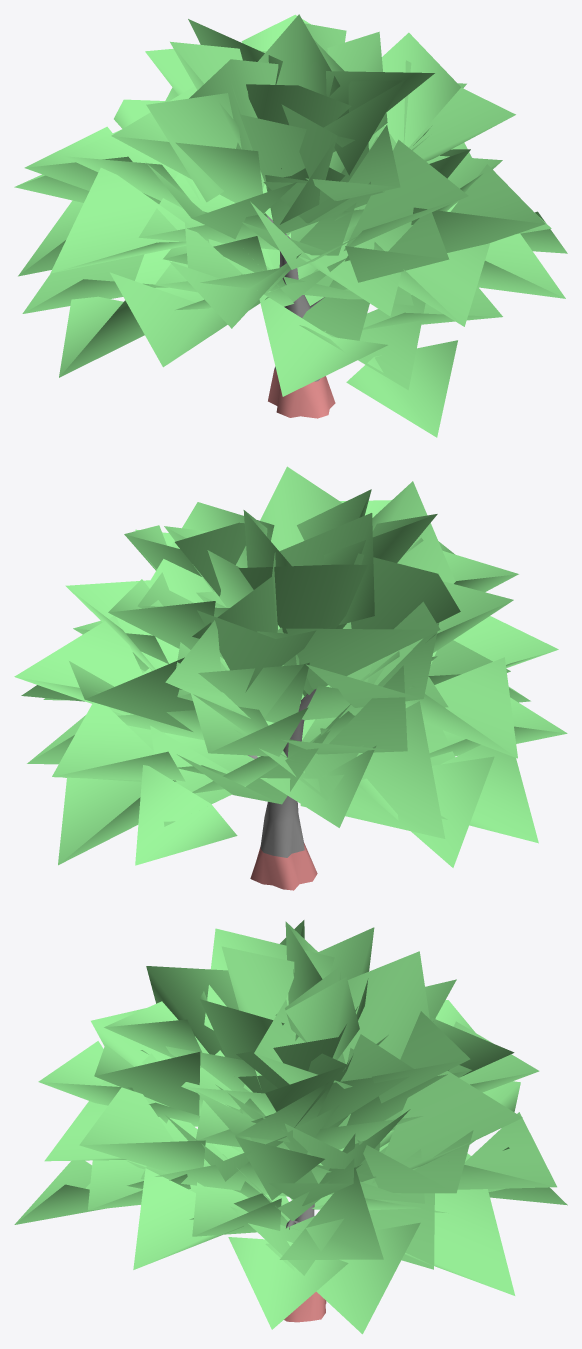
File: Oren_Darkelf_tree02.gltf
3 renders of one model, top to bottom at view 1: azimuth 30°, elevation 25°; view 2: azimuth 150°, elevation 25°; view 3: azimuth 270°, elevation 25°, orthographic. The views are drawn at different scales.
Visible parts, largest first — view 1: Oren_Darkelf_tree02; view 2: Oren_Darkelf_tree02; view 3: Oren_Darkelf_tree02.
Boxes of the visible parts, x1,y1,x2,y2 form: Oren_Darkelf_tree02: (14, 14, 567, 437); Oren_Darkelf_tree02: (14, 466, 567, 890); Oren_Darkelf_tree02: (14, 920, 567, 1334).
Size of the model in its own units: 13.94 by 9.92 by 14.15.
